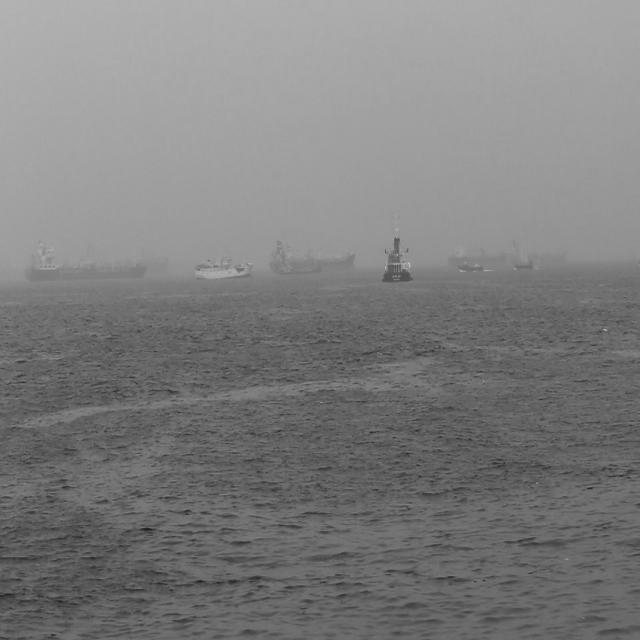ship: (28, 238, 148, 279), (269, 240, 356, 276), (382, 214, 412, 283), (193, 253, 255, 280), (448, 246, 516, 263), (458, 262, 485, 274), (516, 261, 536, 271)
